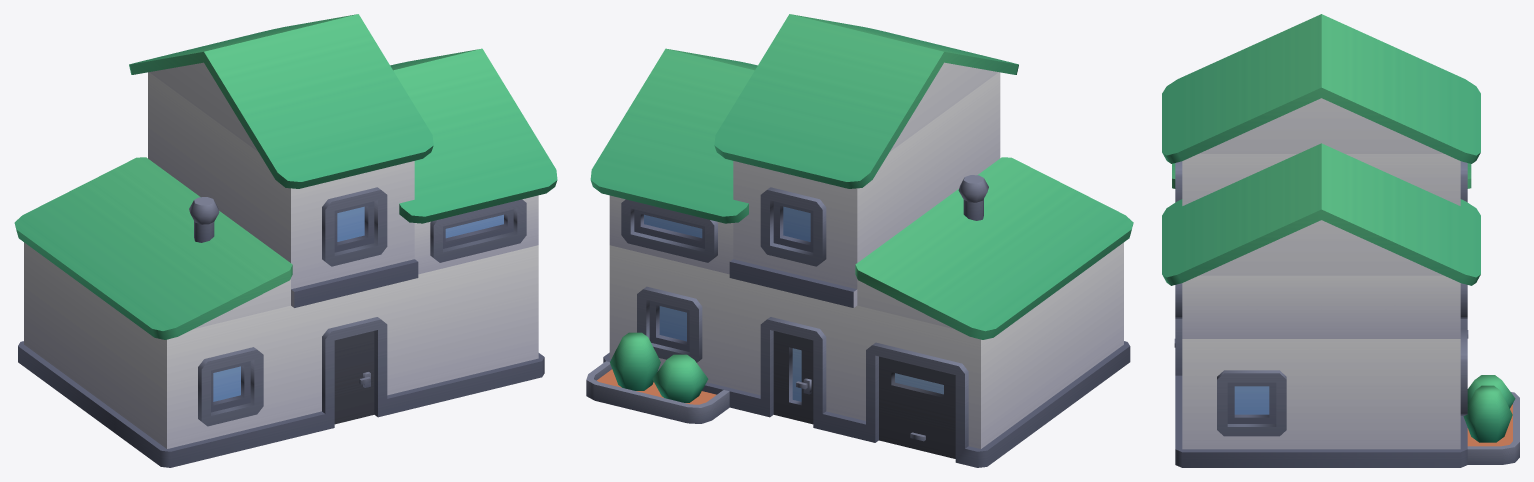
Rendered from house_2.fbx.
The picture shows the model from 3 angles, left to right: view 1: azimuth 30°, elevation 25°; view 2: azimuth 150°, elevation 25°; view 3: azimuth 270°, elevation 25°; orthographic projection. The views are drawn at different scales.
Visible parts, largest first — view 1: house_2; view 2: house_2; view 3: house_2.
Part boxes in pixels (left/top/right/bottom): house_2: left=14, top=14, right=557, bottom=467; house_2: left=586, top=14, right=1133, bottom=467; house_2: left=1162, top=14, right=1519, bottom=467.
Bounding box in the file's own units: 1.29 × 1.03 × 1.03.
1 material, 1 textured.
